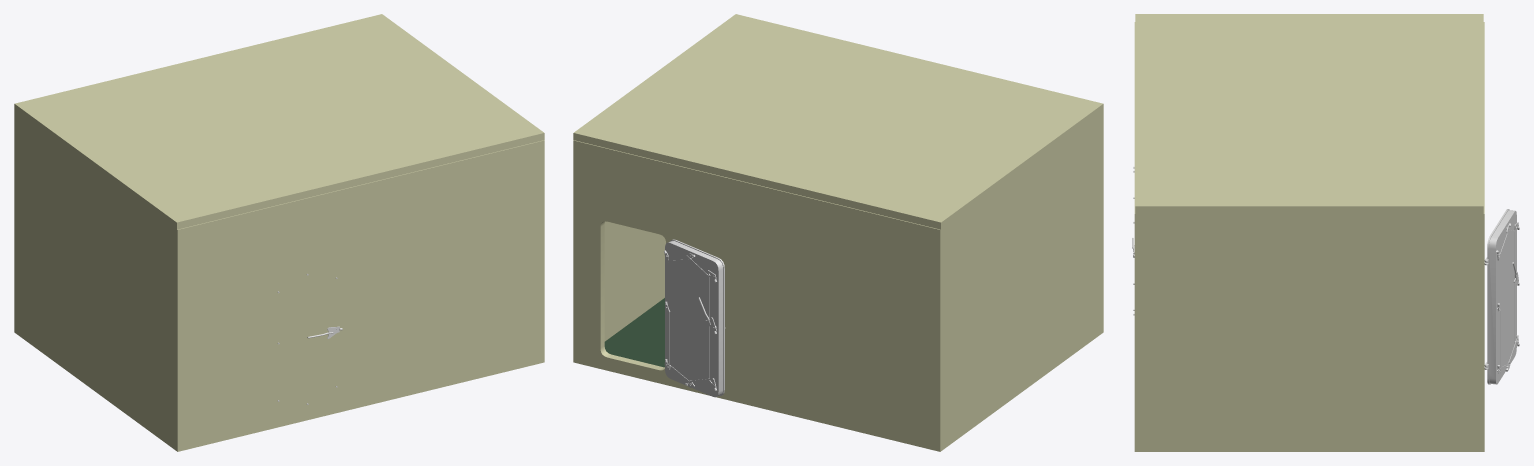
File: emcyGeneratorRoom.fbx
3 views of the same model, side by side, from view 1: azimuth 30°, elevation 25°; view 2: azimuth 150°, elevation 25°; view 3: azimuth 270°, elevation 25° (orthographic). The views are drawn at different scales.
Parts seen in each view (by area): view 1: emcyGeneratorRoom, emcyGeneratorRoom_roof; view 2: emcyGeneratorRoom, emcyGeneratorRoom_roof, bulkheadDoor001; view 3: emcyGeneratorRoom, emcyGeneratorRoom_roof, bulkheadDoor001.
Boxes of the visible parts, x1,y1,x2,y2 form: emcyGeneratorRoom: [14, 111, 544, 451]; emcyGeneratorRoom_roof: [14, 14, 544, 229]; emcyGeneratorRoom: [573, 111, 1103, 451]; emcyGeneratorRoom_roof: [573, 14, 1103, 229]; bulkheadDoor001: [665, 239, 724, 397]; emcyGeneratorRoom: [1134, 22, 1484, 451]; emcyGeneratorRoom_roof: [1135, 14, 1483, 214]; bulkheadDoor001: [1484, 209, 1518, 384].
Size of the model in its own units: 520 by 310 by 443.
